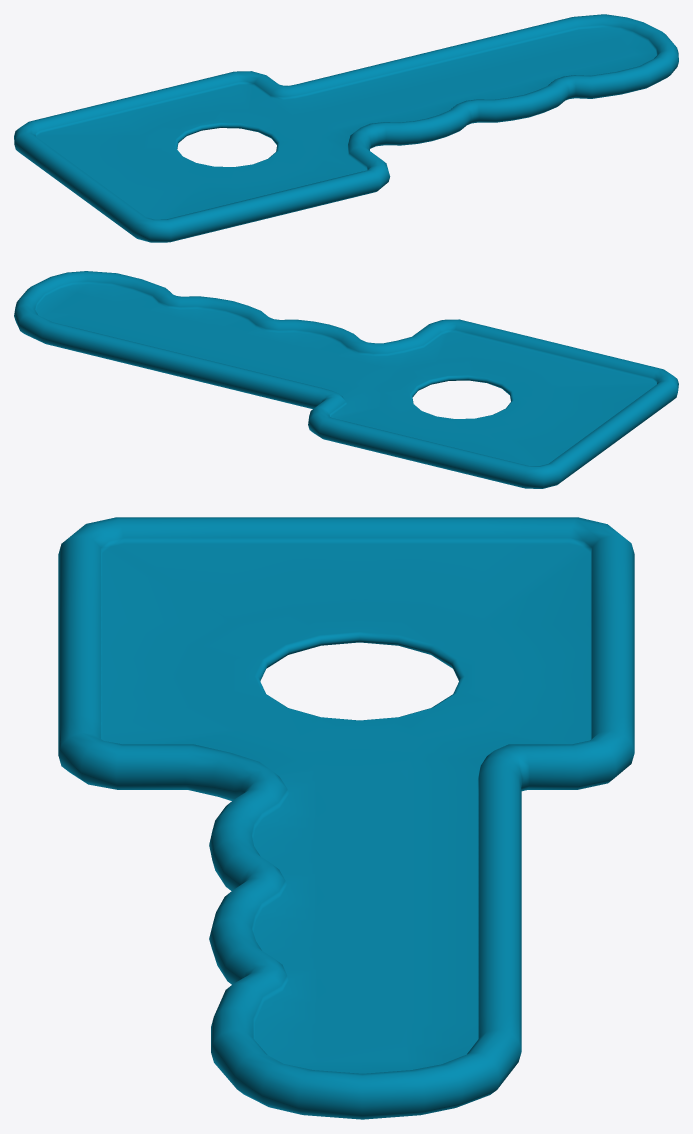
3 views of the same model, one above another, from view 1: azimuth 30°, elevation 25°; view 2: azimuth 150°, elevation 25°; view 3: azimuth 270°, elevation 25° (orthographic). The views are drawn at different scales.
Visible parts, largest first — view 1: BabyKeySquareFin; view 2: BabyKeySquareFin; view 3: BabyKeySquareFin.
Part boxes in pixels (box(x1,y1,x2,y2)): BabyKeySquareFin: box(14, 14, 678, 242); BabyKeySquareFin: box(14, 271, 678, 488); BabyKeySquareFin: box(58, 517, 634, 1119).
Bounding box in the file's own units: 0.3002 × 0.0101 × 0.127.
